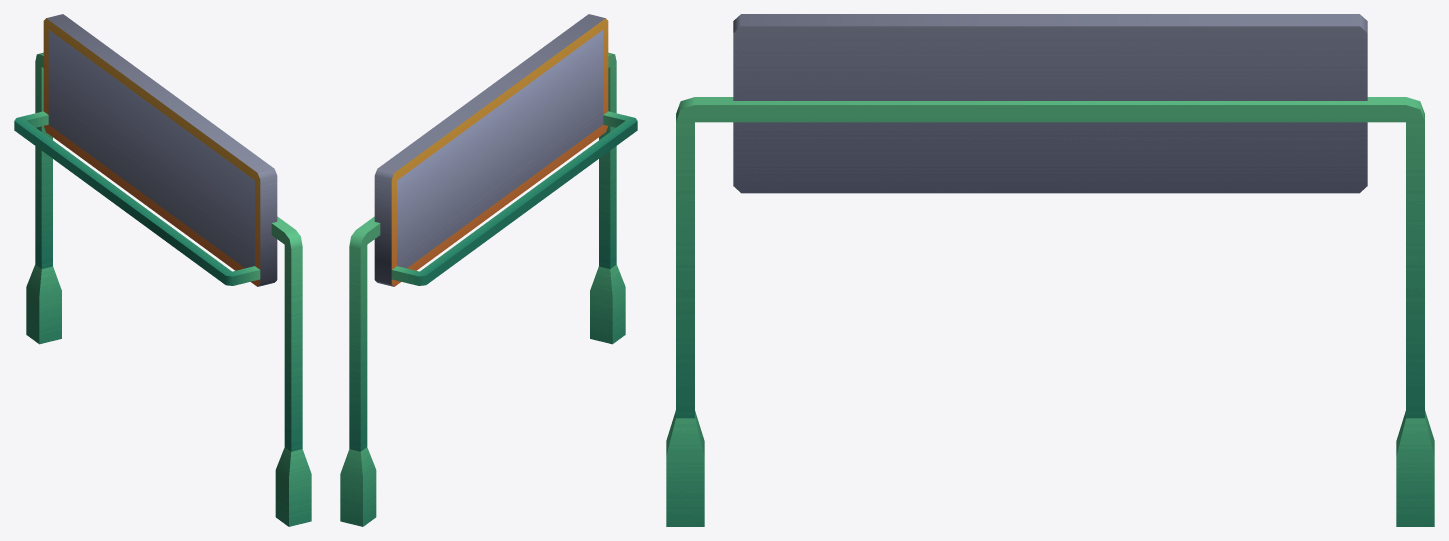
File: sign_highway_wide.glb
3 renders of one model, left to right at view 1: azimuth 30°, elevation 25°; view 2: azimuth 150°, elevation 25°; view 3: azimuth 270°, elevation 25°, orthographic. The views are drawn at different scales.
Parts seen in each view (by area): view 1: sign-highway-wide; view 2: sign-highway-wide; view 3: sign-highway-wide.
Boxes of the visible parts, x1=… form: sign-highway-wide: x1=14, y1=14, x2=311, y2=526; sign-highway-wide: x1=340, y1=14, x2=637, y2=526; sign-highway-wide: x1=666, y1=14, x2=1434, y2=526.
Bounding box in the file's own units: 0.1324 × 0.7074 × 1.
1 material, 1 textured.
